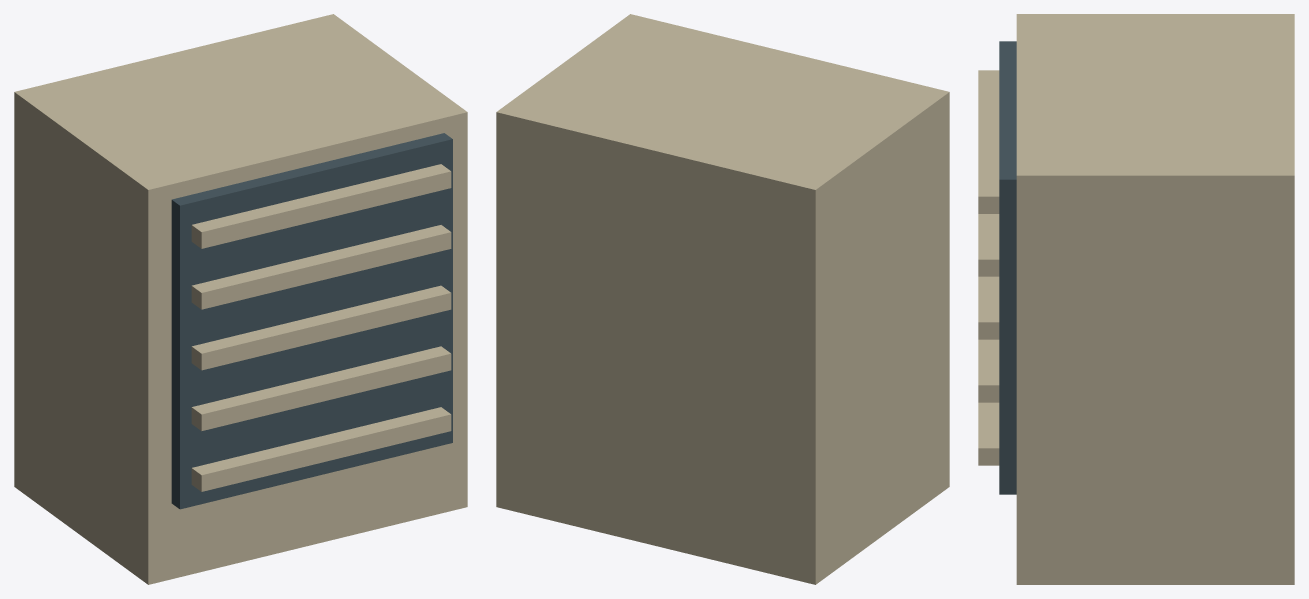
File: ventilation_duct.glb
3 renders of one model, left to right at view 1: azimuth 30°, elevation 25°; view 2: azimuth 150°, elevation 25°; view 3: azimuth 270°, elevation 25°, orthographic. The views are drawn at different scales.
Parts seen in each view (by area): view 1: ventilation_duct; view 2: ventilation_duct; view 3: ventilation_duct.
Boxes of the visible parts, box(x1,y1,x2,y2) form: ventilation_duct: box(14, 14, 467, 584); ventilation_duct: box(496, 14, 949, 584); ventilation_duct: box(978, 14, 1294, 584).
Bounding box in the file's own units: 1.1 × 1.3 × 0.91.
